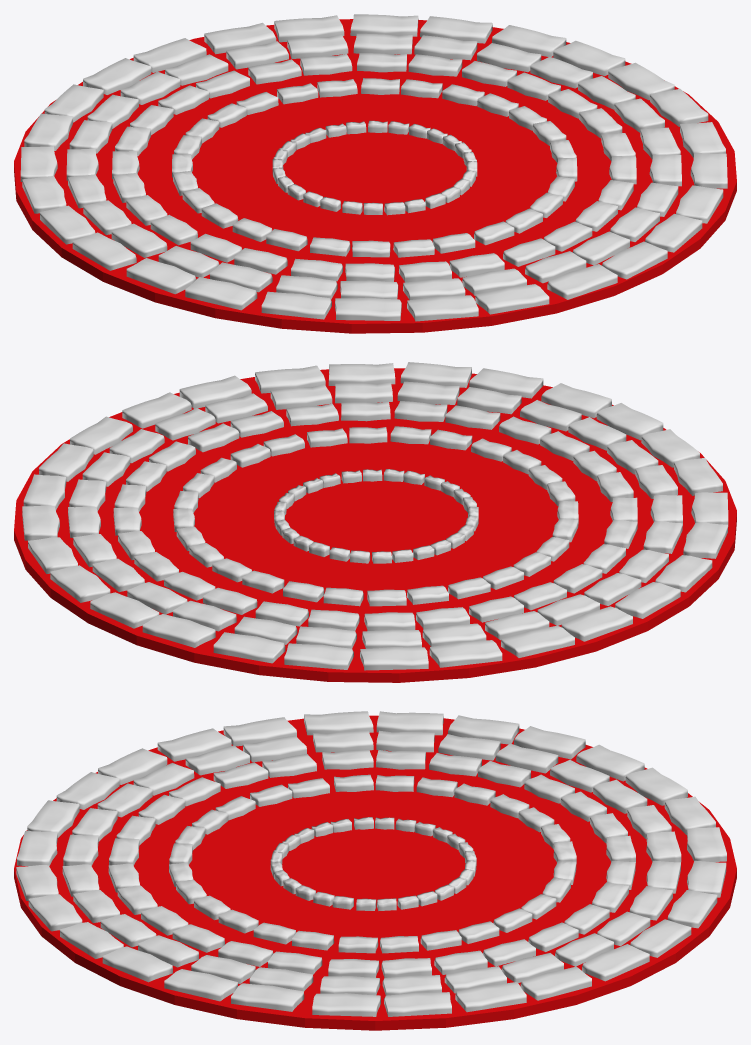
File: platform_high.fbx
3 renders of one model, top to bottom at view 1: azimuth 30°, elevation 25°; view 2: azimuth 150°, elevation 25°; view 3: azimuth 270°, elevation 25°, orthographic.
Parts seen in each view (by area): view 1: platform_high, platform_high.001, platform_high.005, platform_high.002, platform_high.003, platform_high.028, platform_high.006, platform_high.004, platform_high.008, platform_high.020, platform_high.013, platform_high.027 (+93 smaller); view 2: platform_high, platform_high.012, platform_high.010, platform_high.015, platform_high.014, platform_high.013, platform_high.011, platform_high.009, platform_high.016, platform_high.023, platform_high.007, platform_high.028 (+92 smaller); view 3: platform_high, platform_high.023, platform_high.024, platform_high.020, platform_high.019, platform_high.021, platform_high.026, platform_high.022, platform_high.017, platform_high.005, platform_high.010, platform_high.003 (+93 smaller).
Part boxes in pixels (<box>): platform_high: <box>14,19,736,333</box>; platform_high.001: <box>475,284,549,314</box>; platform_high.005: <box>185,277,257,310</box>; platform_high.002: <box>407,295,478,321</box>; platform_high.003: <box>261,291,331,319</box>; platform_high.028: <box>547,264,617,299</box>; platform_high.006: <box>126,258,196,294</box>; platform_high.004: <box>335,297,401,320</box>; platform_high.008: <box>72,232,136,270</box>; platform_high.020: <box>553,40,625,76</box>; platform_high.013: <box>83,58,151,94</box>; platform_high.027: <box>602,241,667,279</box>; platform_high: <box>14,368,736,682</box>; platform_high.012: <box>429,640,502,667</box>; platform_high.010: <box>501,625,574,657</box>; platform_high.015: <box>142,614,215,647</box>; platform_high.014: <box>213,632,285,663</box>; platform_high.013: <box>284,643,353,669</box>; platform_high.011: <box>360,647,428,670</box>; platform_high.009: <box>561,606,632,641</box>; platform_high.016: <box>90,592,159,628</box>; platform_high.023: <box>122,392,191,428</box>; platform_high.007: <box>615,582,680,618</box>; platform_high.028: <box>469,368,543,398</box>; platform_high: <box>14,715,736,1030</box>; platform_high.023: <box>231,983,304,1011</box>; platform_high.024: <box>164,969,237,1001</box>; platform_high.020: <box>455,982,526,1012</box>; platform_high.019: <box>520,966,591,1000</box>; platform_high.021: <box>312,993,380,1016</box>; platform_high.026: <box>102,946,172,982</box>; platform_high.022: <box>384,992,451,1016</box>; platform_high.017: <box>582,944,649,981</box>; platform_high.005: <box>157,728,231,761</box>; platform_high.010: <box>514,726,585,759</box>; platform_high.003: <box>98,748,167,784</box>.
Size of the model in its own units: 2882 by 84.77 by 2882.
